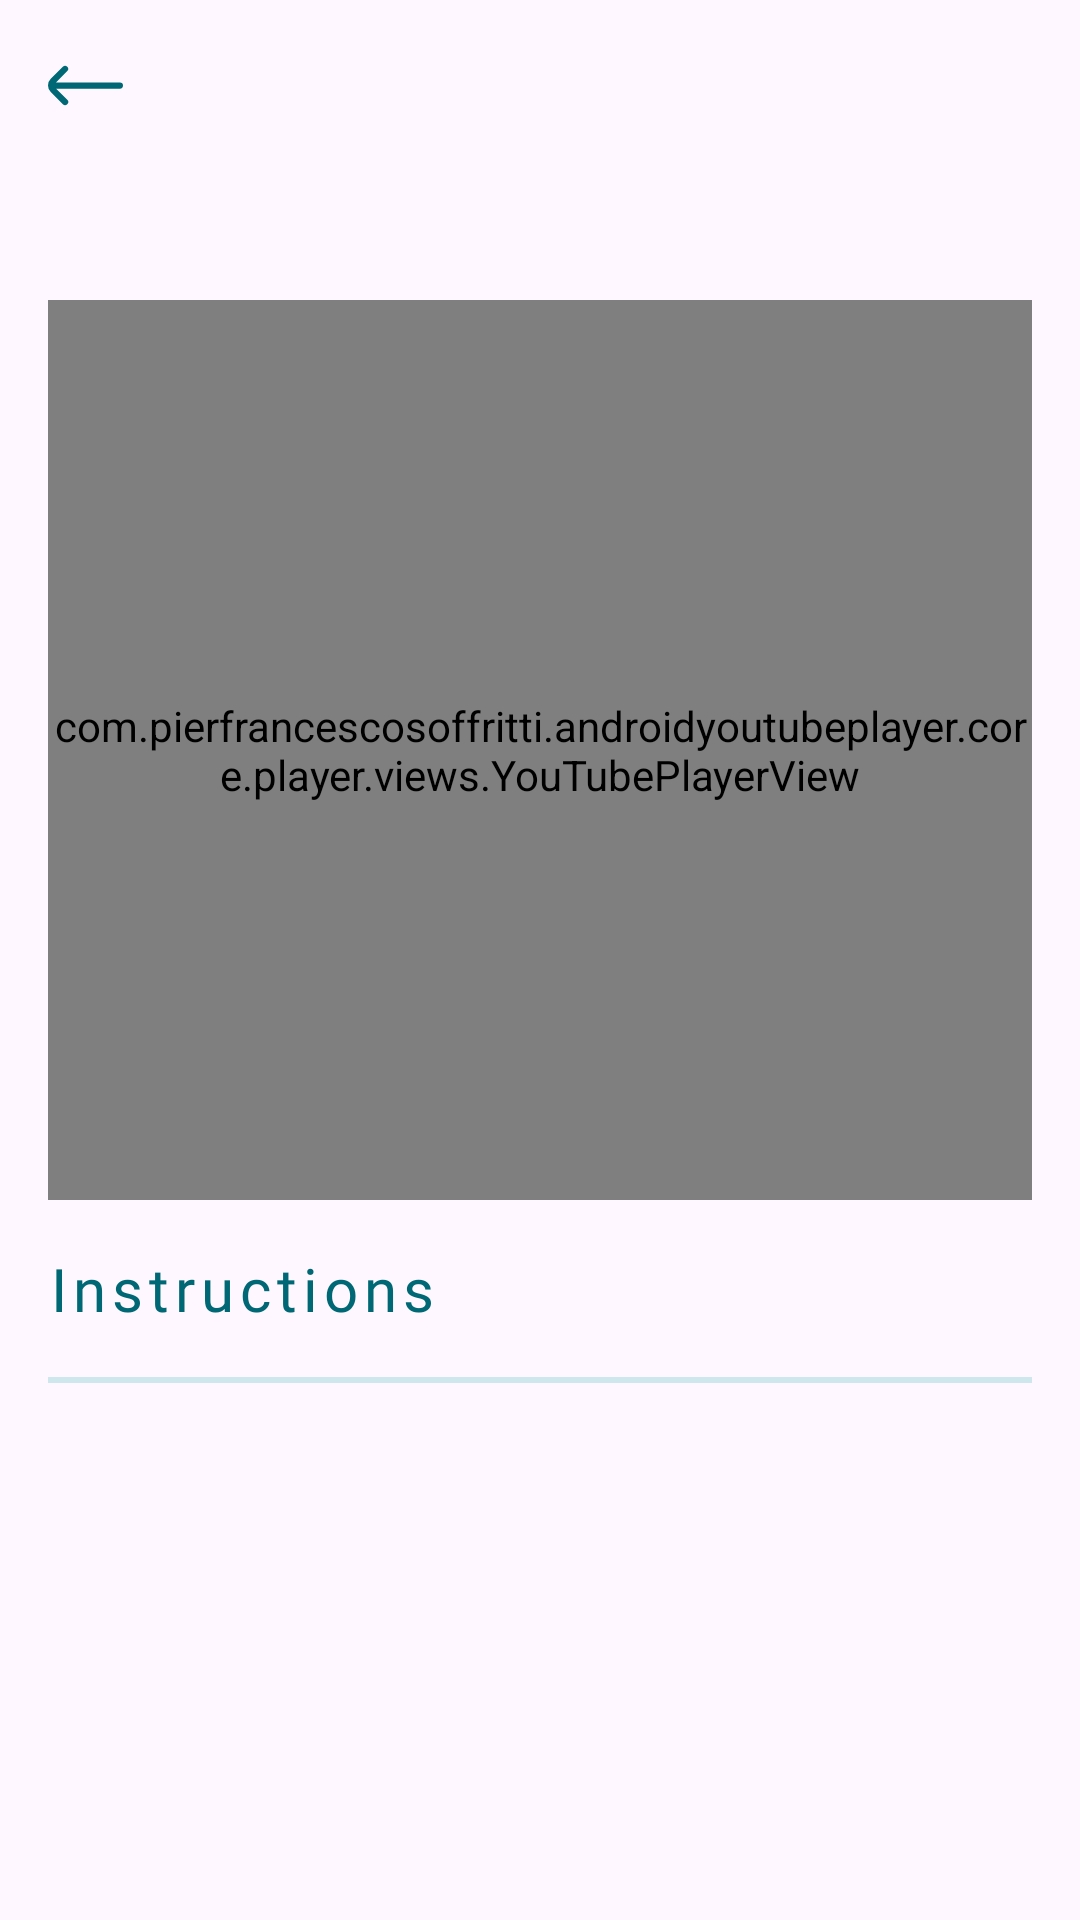

Named icons in this screenshot (1080×1920) and their centers, (x,y):
arrow left: (85,85)
